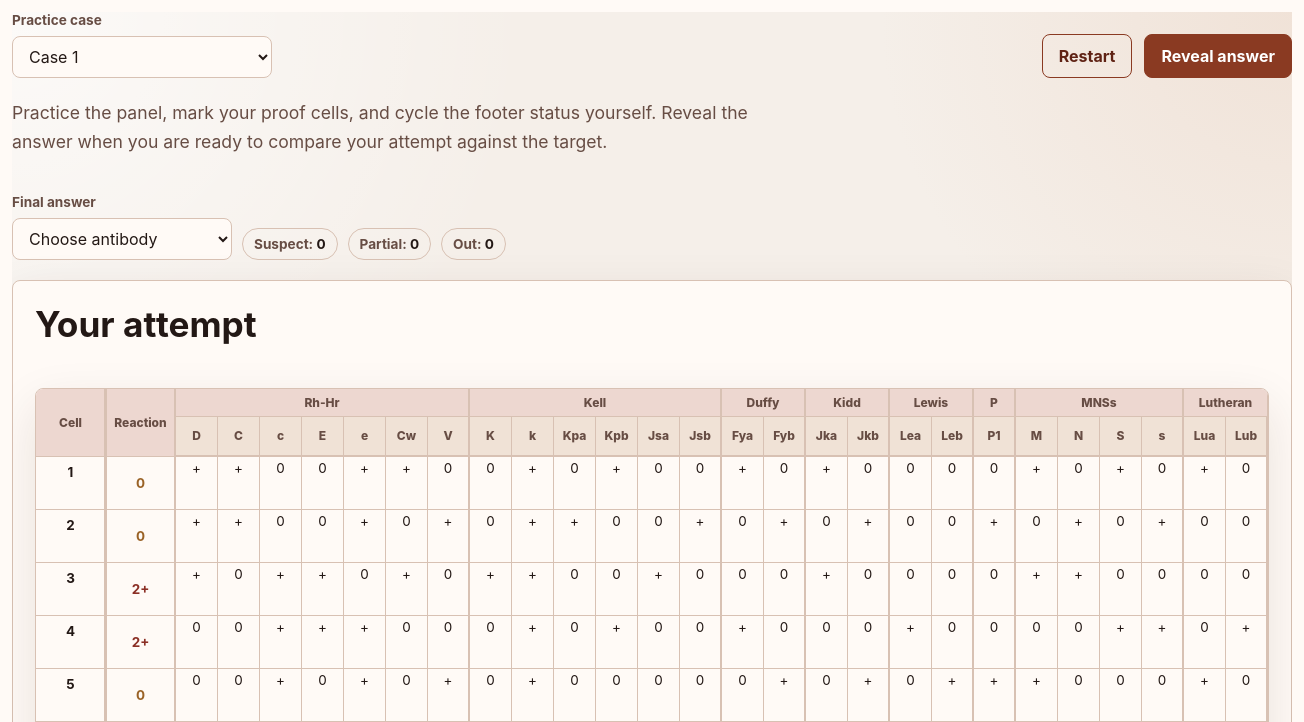
Test: PracticePanel › allows proof marks without choosing a final answer first
Click the button named "proof mark blank".
click(70, 483)  # box 39,457 -> 102,509
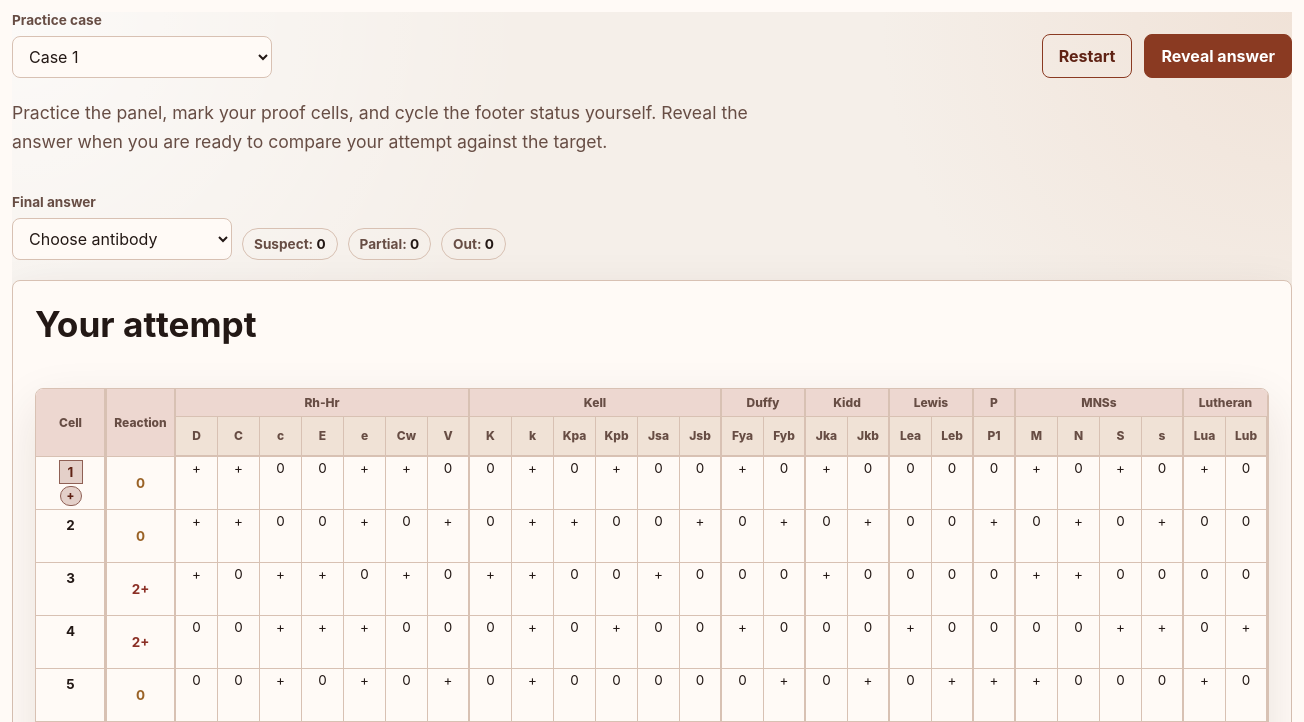
Expected: the button named "proof mark +" is shown, 39,457 -> 102,509
